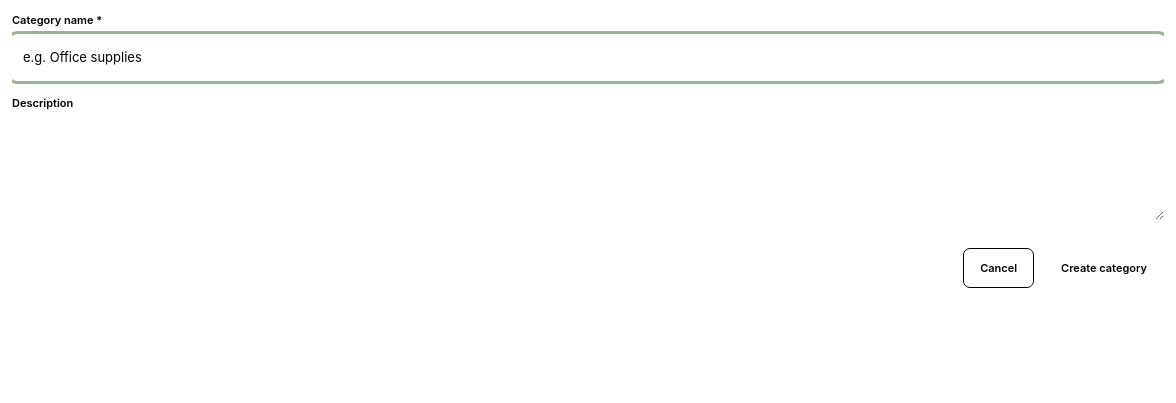
Test: forms › keeps the category draft and displays API errors
Type "Office" into the field labelled "Category name *" at (588, 57), box [12,36,1164,78]
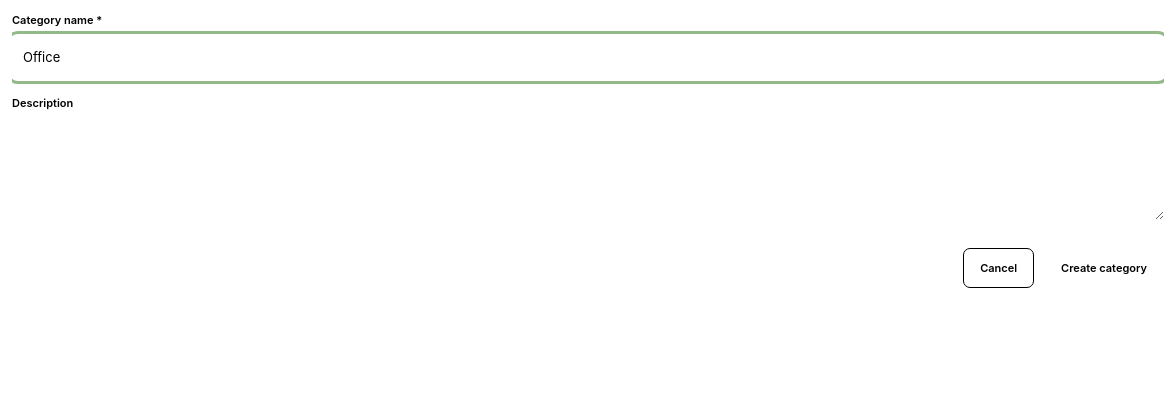
Click the button "Create category" at (1104, 268), box [1044,248,1164,288]
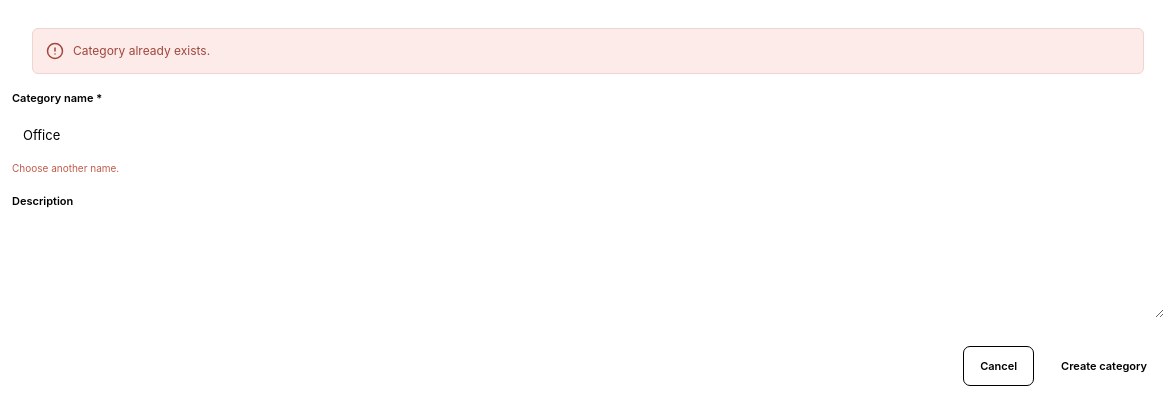
Expected: the message reads "Category already exists.", [73,43,210,58]
Expected: the text "Choose another name." is shown, [12,162,119,174]
